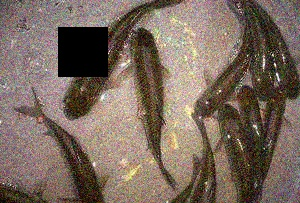fry: (50, 20, 120, 121), (128, 29, 177, 147), (45, 126, 107, 203), (214, 102, 250, 176), (193, 63, 240, 118), (263, 85, 290, 170), (271, 23, 300, 100), (194, 132, 222, 203), (252, 31, 277, 104), (237, 83, 266, 143)
